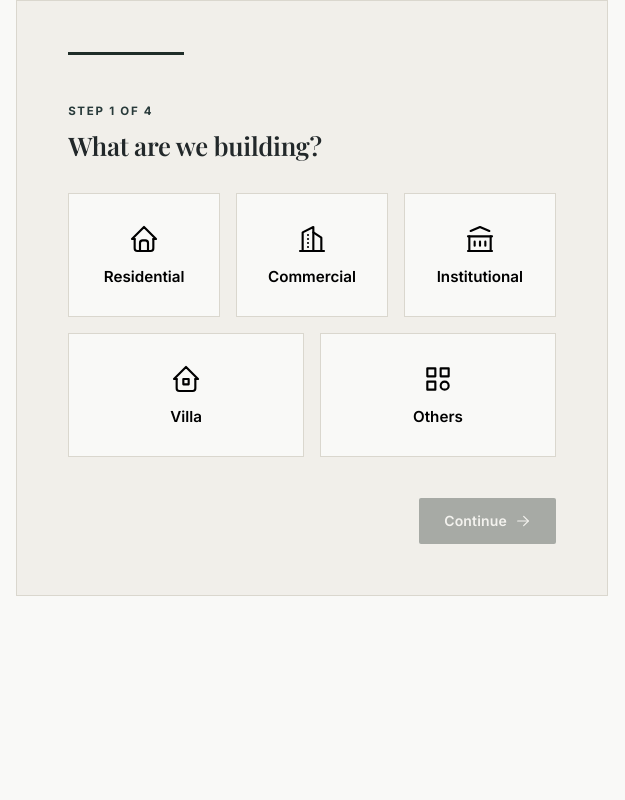
Scenario: real project enquiry submission › disables unconfigured capture without displaying a fake success
The image size is (625, 800).
Click the button "Villa" at x=186, y=395, box [68, 333, 304, 457]
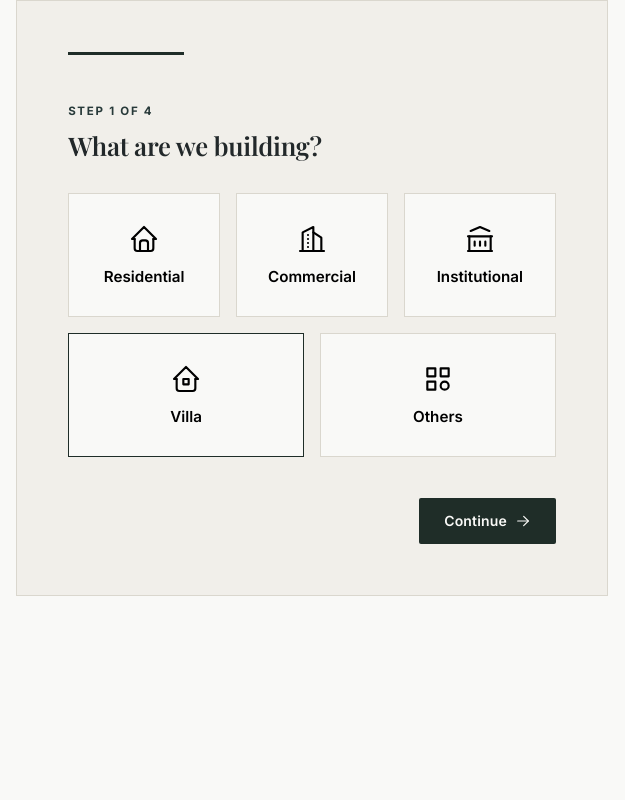
Click the button "Continue" at x=488, y=521, box [419, 498, 556, 544]
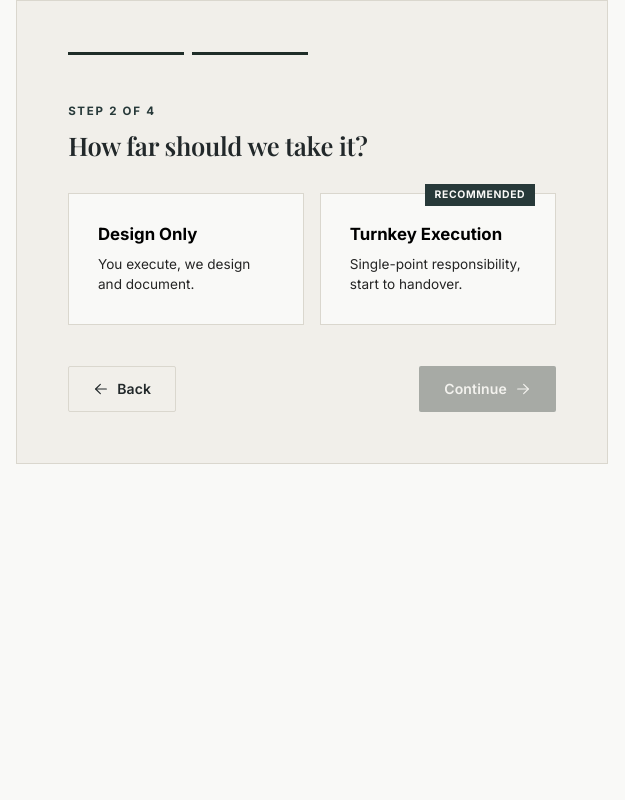
Click the button "Turnkey Execution" at x=438, y=259, box [320, 193, 556, 325]
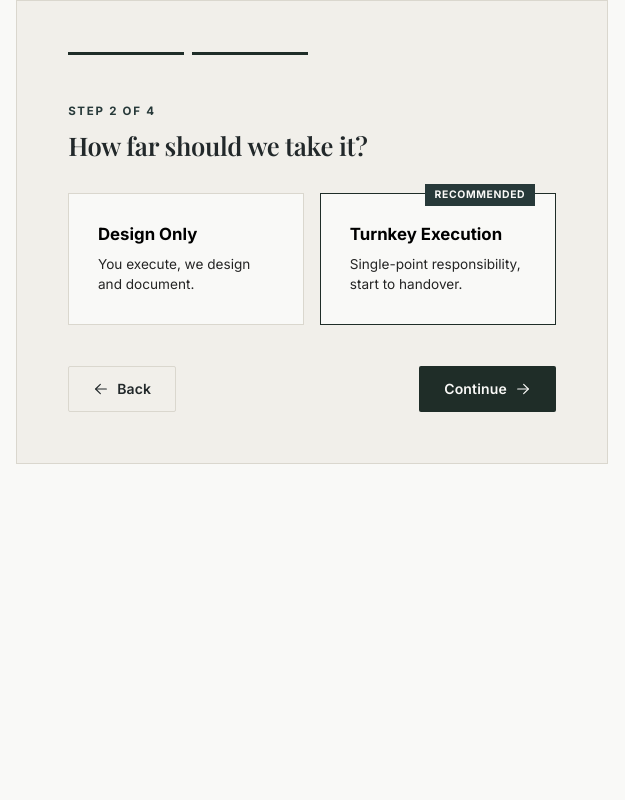
Click the button "Continue" at x=488, y=389, box [419, 366, 556, 412]
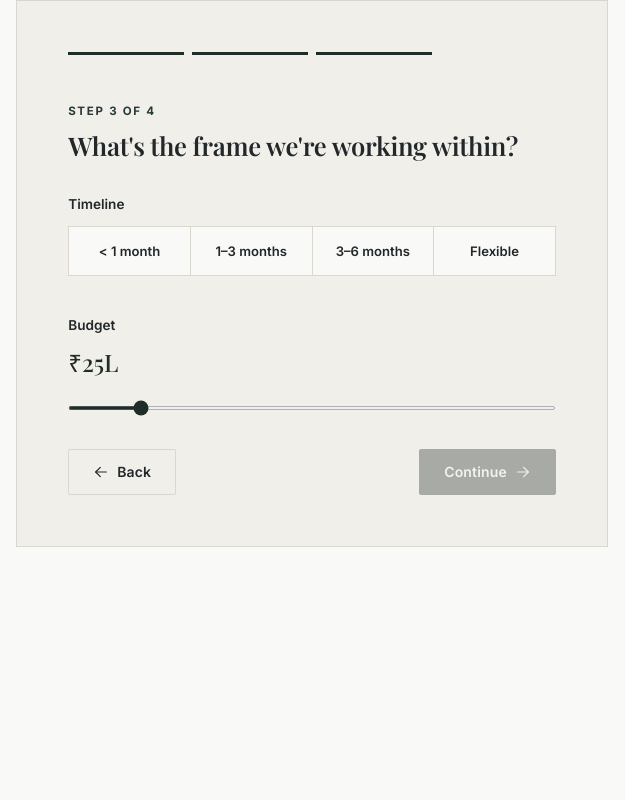
Click the button "1–3 months" at x=252, y=251, box [191, 227, 312, 275]
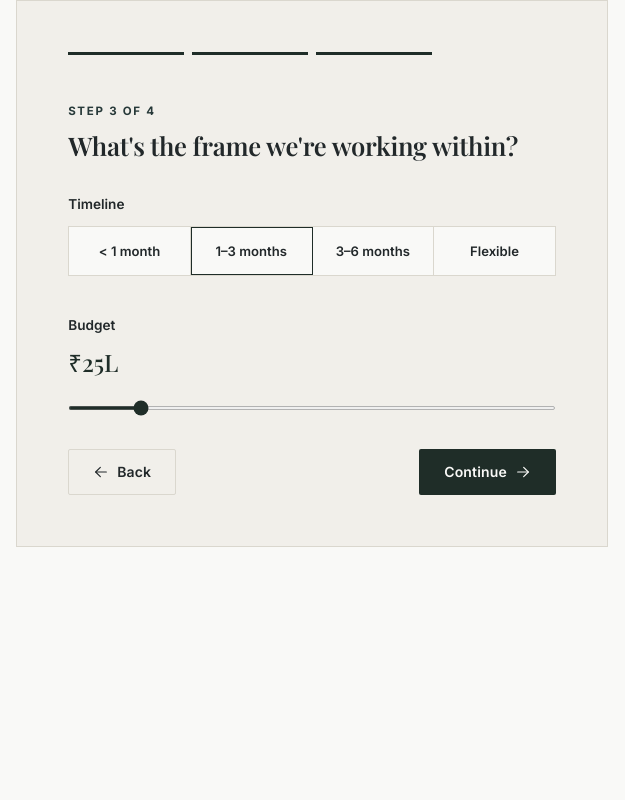
Click the button "Continue" at x=488, y=472, box [419, 449, 556, 495]
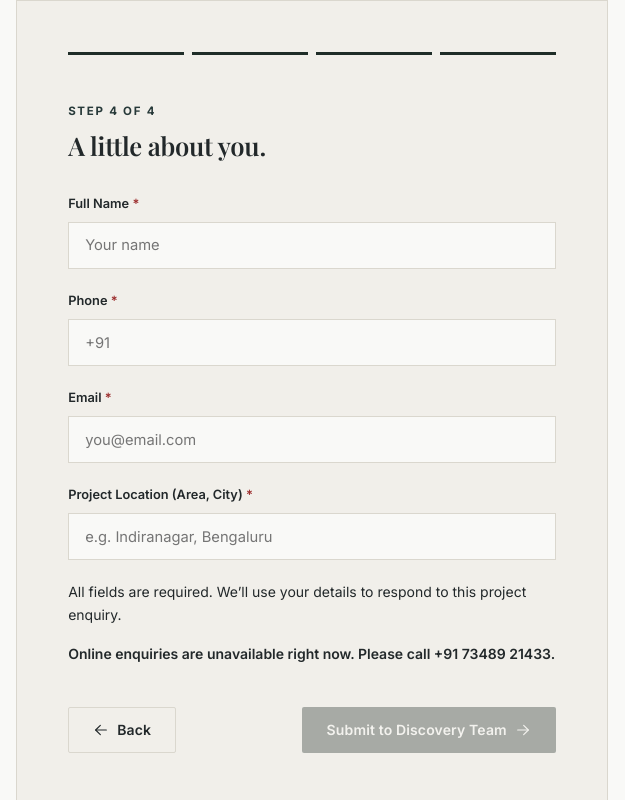
Now the button "Submit to Discovery Team" is disabled, box [302, 707, 556, 753]
Now the message shows "Online enquiries are unavailable", box [68, 645, 555, 662]
